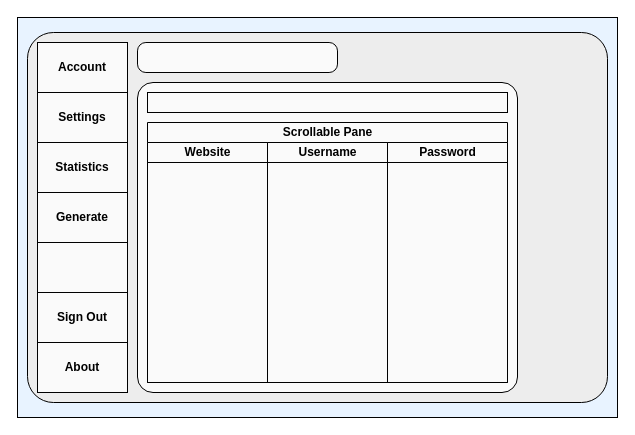
Some shapes in this 635 by 435 pixel diagram are drawn without their labels. The box of each missing label's shape, as (x1, y1, x2, y2) in pixels:
Search Bar: (146, 92, 508, 112)
Welcome Back, this.username: (136, 42, 338, 72)
